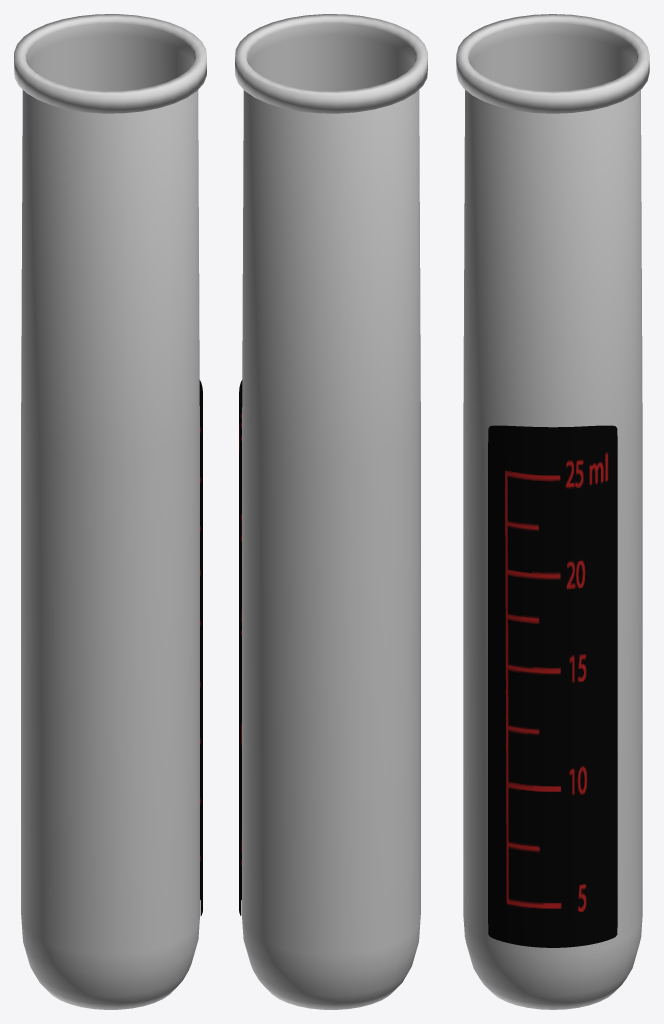
The model's file is alat_tabungReaksi_25ml_annisa_01.fbx.
The picture shows the model from 3 angles, left to right: view 1: azimuth 30°, elevation 25°; view 2: azimuth 150°, elevation 25°; view 3: azimuth 270°, elevation 25°; orthographic projection.
Parts seen in each view (by area): view 1: tabungReaksi_25ml; view 2: tabungReaksi_25ml; view 3: tabungReaksi_25ml.
Part boxes in pixels (x1,y1,x2,y2): tabungReaksi_25ml: (14, 14, 206, 1009); tabungReaksi_25ml: (235, 14, 427, 1009); tabungReaksi_25ml: (456, 14, 649, 1009).
Size of the model in its own units: 3.15 by 16.66 by 3.15.
2 materials, 1 textured.
